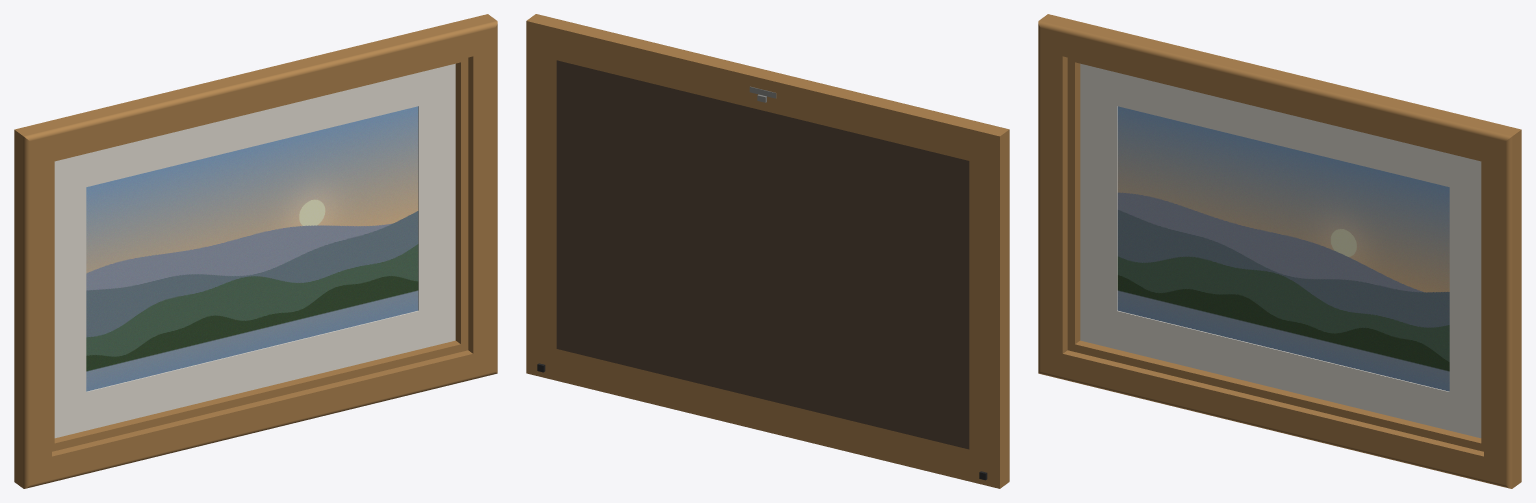
File: picture_frame_a.glb
The picture shows the model from 3 angles, left to right: view 1: azimuth 30°, elevation 25°; view 2: azimuth 150°, elevation 25°; view 3: azimuth 330°, elevation 25°; orthographic projection.
Visible parts, largest first — view 1: picture_frame_a_print, picture_frame.003, picture_frame.005; view 2: picture_frame.001, picture_frame.003; view 3: picture_frame_a_print, picture_frame.003, picture_frame.005.
Part boxes in pixels (x1,y1,x2,y2): picture_frame_a_print: (86,106,418,391); picture_frame.003: (14,14,497,488); picture_frame.005: (54,63,455,438); picture_frame.001: (556,60,969,449); picture_frame.003: (526,14,1009,488); picture_frame_a_print: (1117,106,1449,391); picture_frame.003: (1038,14,1521,488); picture_frame.005: (1080,63,1481,438).
Bounding box in the file's own units: 0.9 × 0.64 × 0.043.
6 materials, 1 textured.
